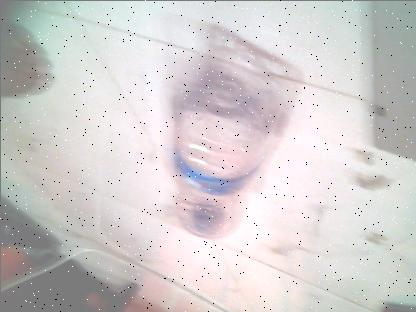Plastic Bottle: (162, 31, 297, 238)
